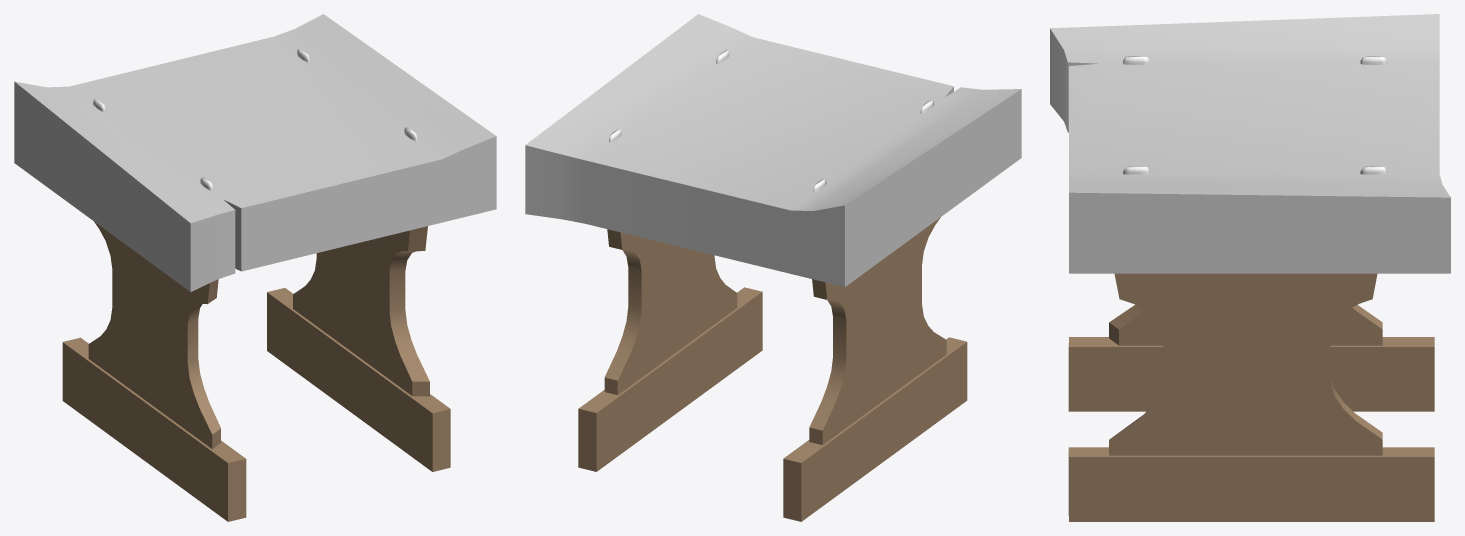
Rendered from bench.glb.
3 views of the same model, side by side, from view 1: azimuth 30°, elevation 25°; view 2: azimuth 150°, elevation 25°; view 3: azimuth 270°, elevation 25° (orthographic). The views are drawn at different scales.
Parts seen in each view (by area): view 1: Bench; view 2: Bench; view 3: Bench.
Part boxes in pixels (bbox=[...]): Bench: bbox=[14, 14, 496, 521]; Bench: bbox=[525, 14, 1021, 521]; Bench: bbox=[1050, 14, 1450, 521].
Bounding box in the file's own units: 1 × 1 × 1.
